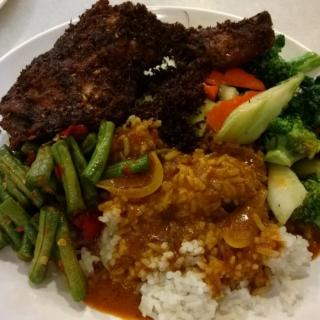Broccoli: (254, 34, 320, 88), (260, 116, 320, 165), (293, 176, 319, 228)
